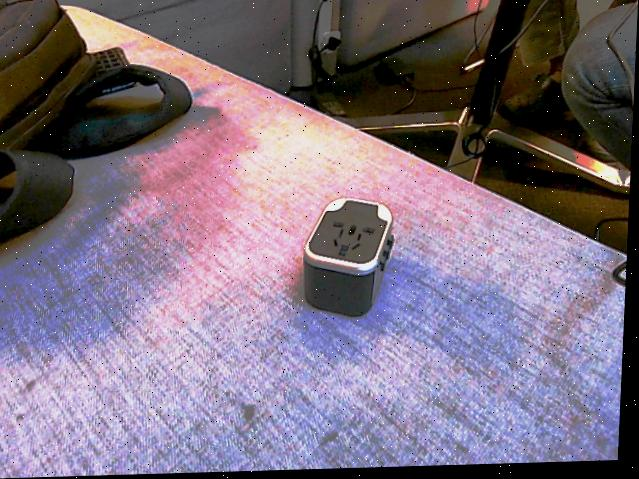adapter: (303, 198, 399, 321)
